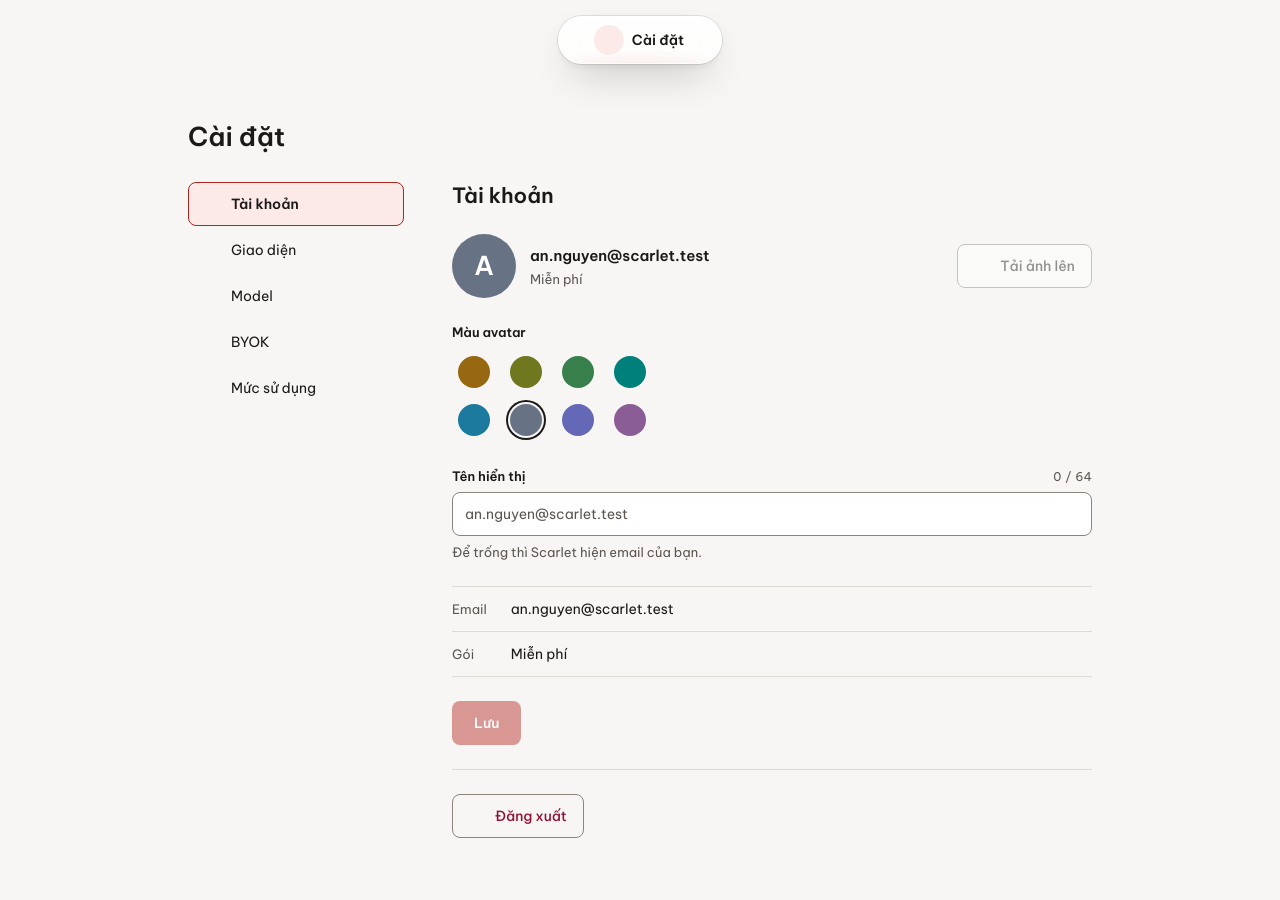
Test: tai khoan › 13. model mac dinh vua bi tat ⇒ noi ro, khong im lang
Type "An" into the field labelled "Tên hiển thị" at point(772, 514), box [452,492,1092,536]
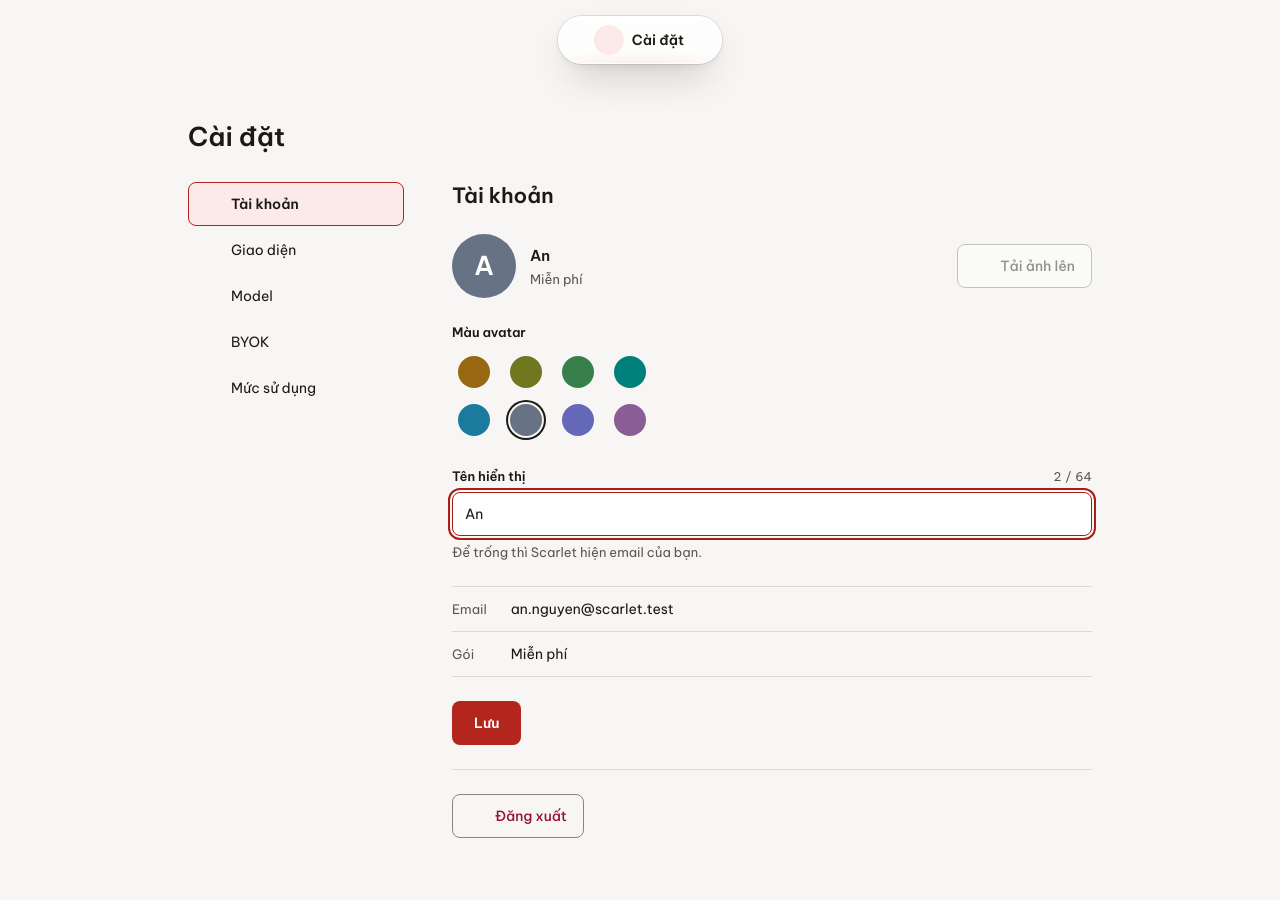
Click the button "Lưu" at point(487, 723), box [452,701,521,745]
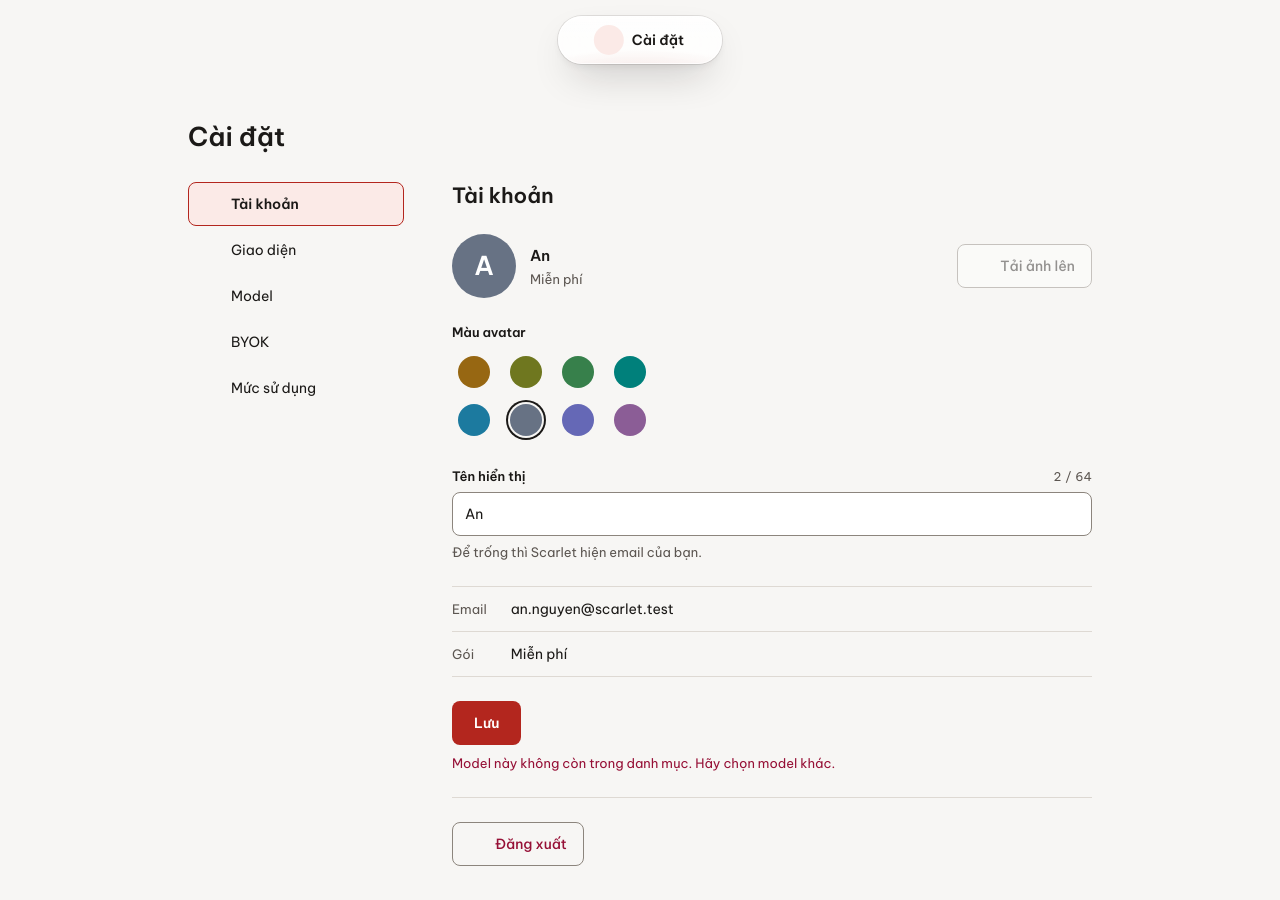
Expected: the message shows "Model này không còn trong danh mục", [452,755,835,771]
